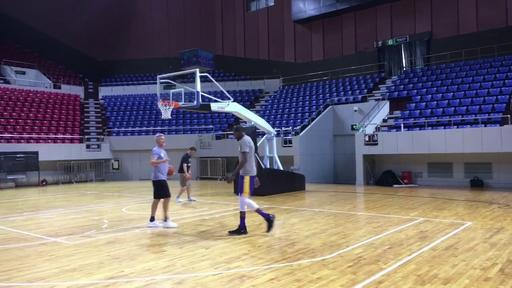ball: (168, 167, 174, 175), (187, 175, 192, 180)
human: (226, 126, 275, 235), (148, 133, 178, 228), (176, 146, 197, 202)
rim: (157, 101, 178, 119)
